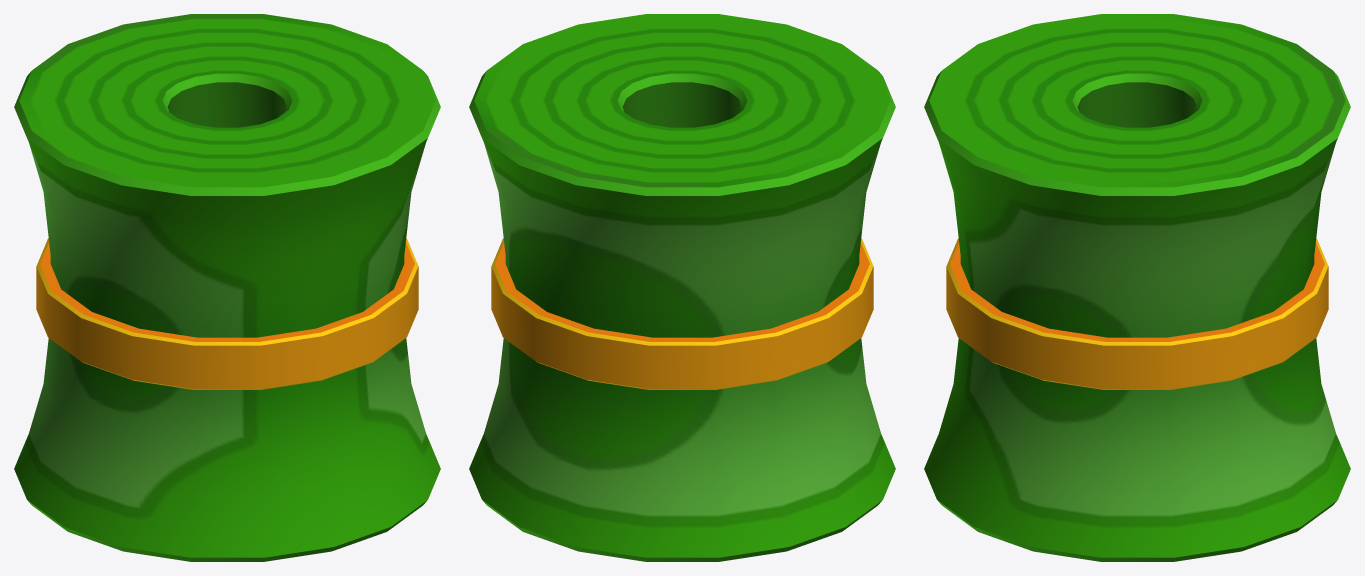
The model's file is money_5.fbx.
3 views of the same model, side by side, from view 1: azimuth 30°, elevation 25°; view 2: azimuth 150°, elevation 25°; view 3: azimuth 270°, elevation 25° (orthographic).
Parts seen in each view (by area): view 1: money_5; view 2: money_5; view 3: money_5.
Boxes of the visible parts, x1,y1,x2,y2 form: money_5: (14,14,440,561); money_5: (469,14,895,561); money_5: (924,14,1350,561).
Bounding box in the file's own units: 45.31 × 44.55 × 46.01.
